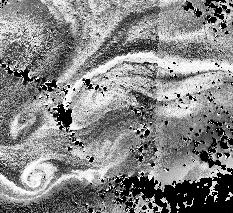CE: (20, 159, 54, 189)
